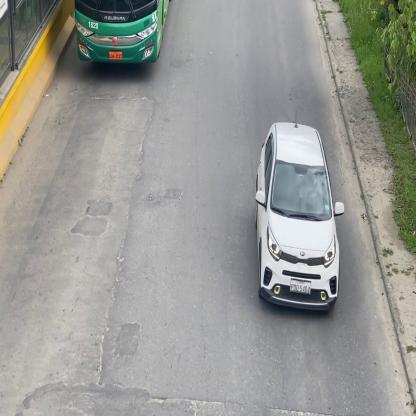Placa: (290, 277, 312, 298), (108, 52, 124, 63)
